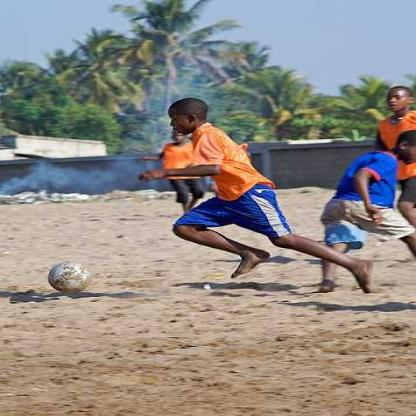ball: (47, 260, 90, 292)
